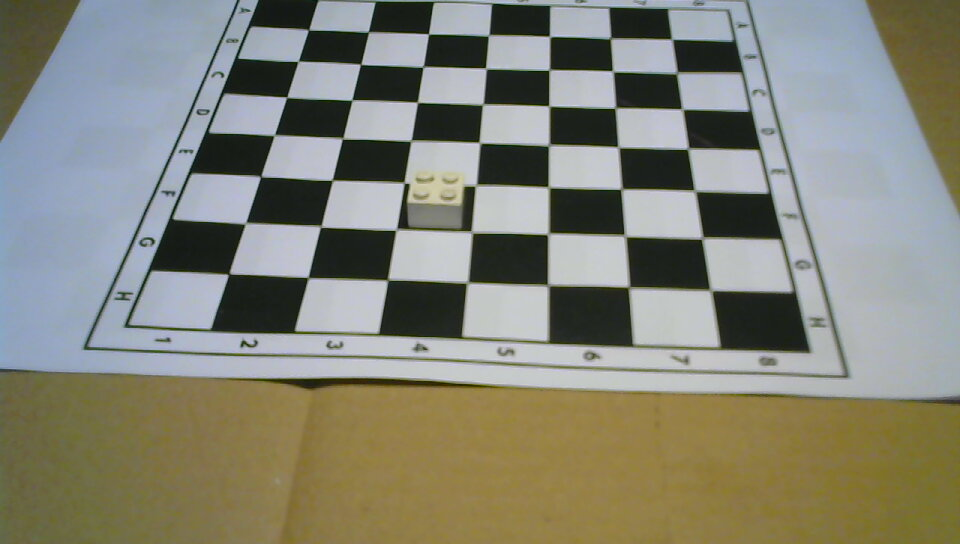wp: (408, 169, 465, 228)
